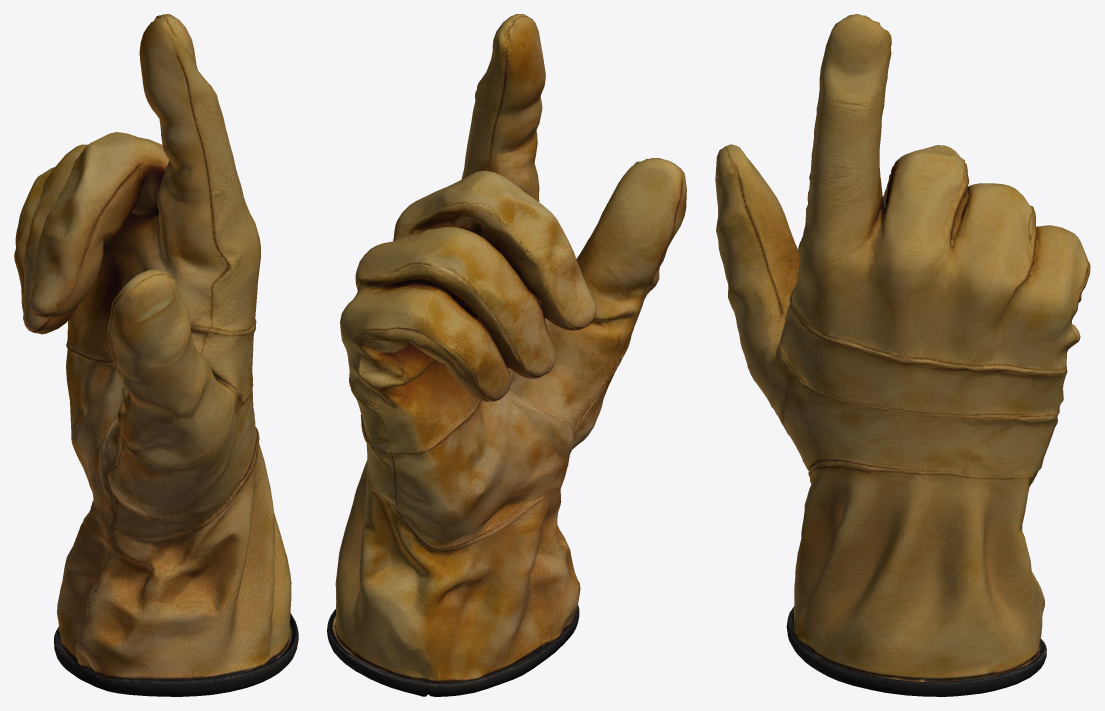
File: fingertip.glb
3 views of the same model, side by side, from view 1: azimuth 30°, elevation 25°; view 2: azimuth 150°, elevation 25°; view 3: azimuth 270°, elevation 25° (orthographic). The views are drawn at different scales.
Visible parts, largest first — view 1: fingertip; view 2: fingertip; view 3: fingertip.
Part boxes in pixels (x1,y1,x2,y2): fingertip: (14,14,298,696); fingertip: (327,14,686,696); fingertip: (715,14,1090,696).
Size of the model in its own units: 0.1735 by 0.4216 by 0.2265.
1 material, 1 textured.
